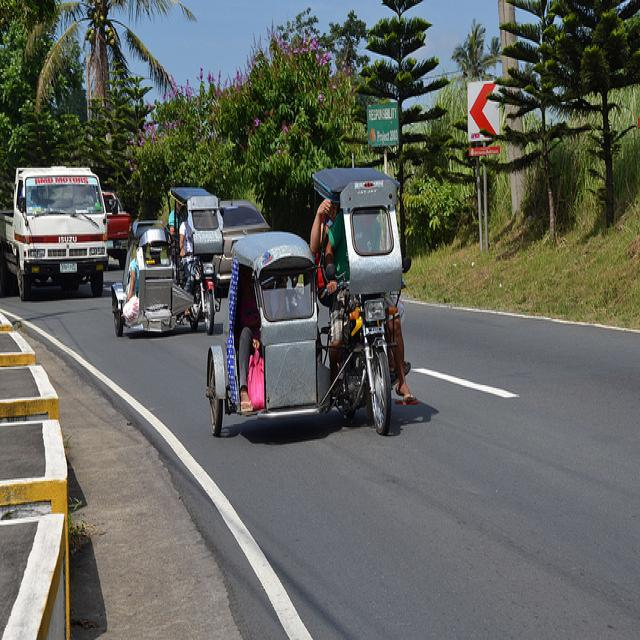motor: (328, 292, 391, 431), (188, 263, 216, 333)
